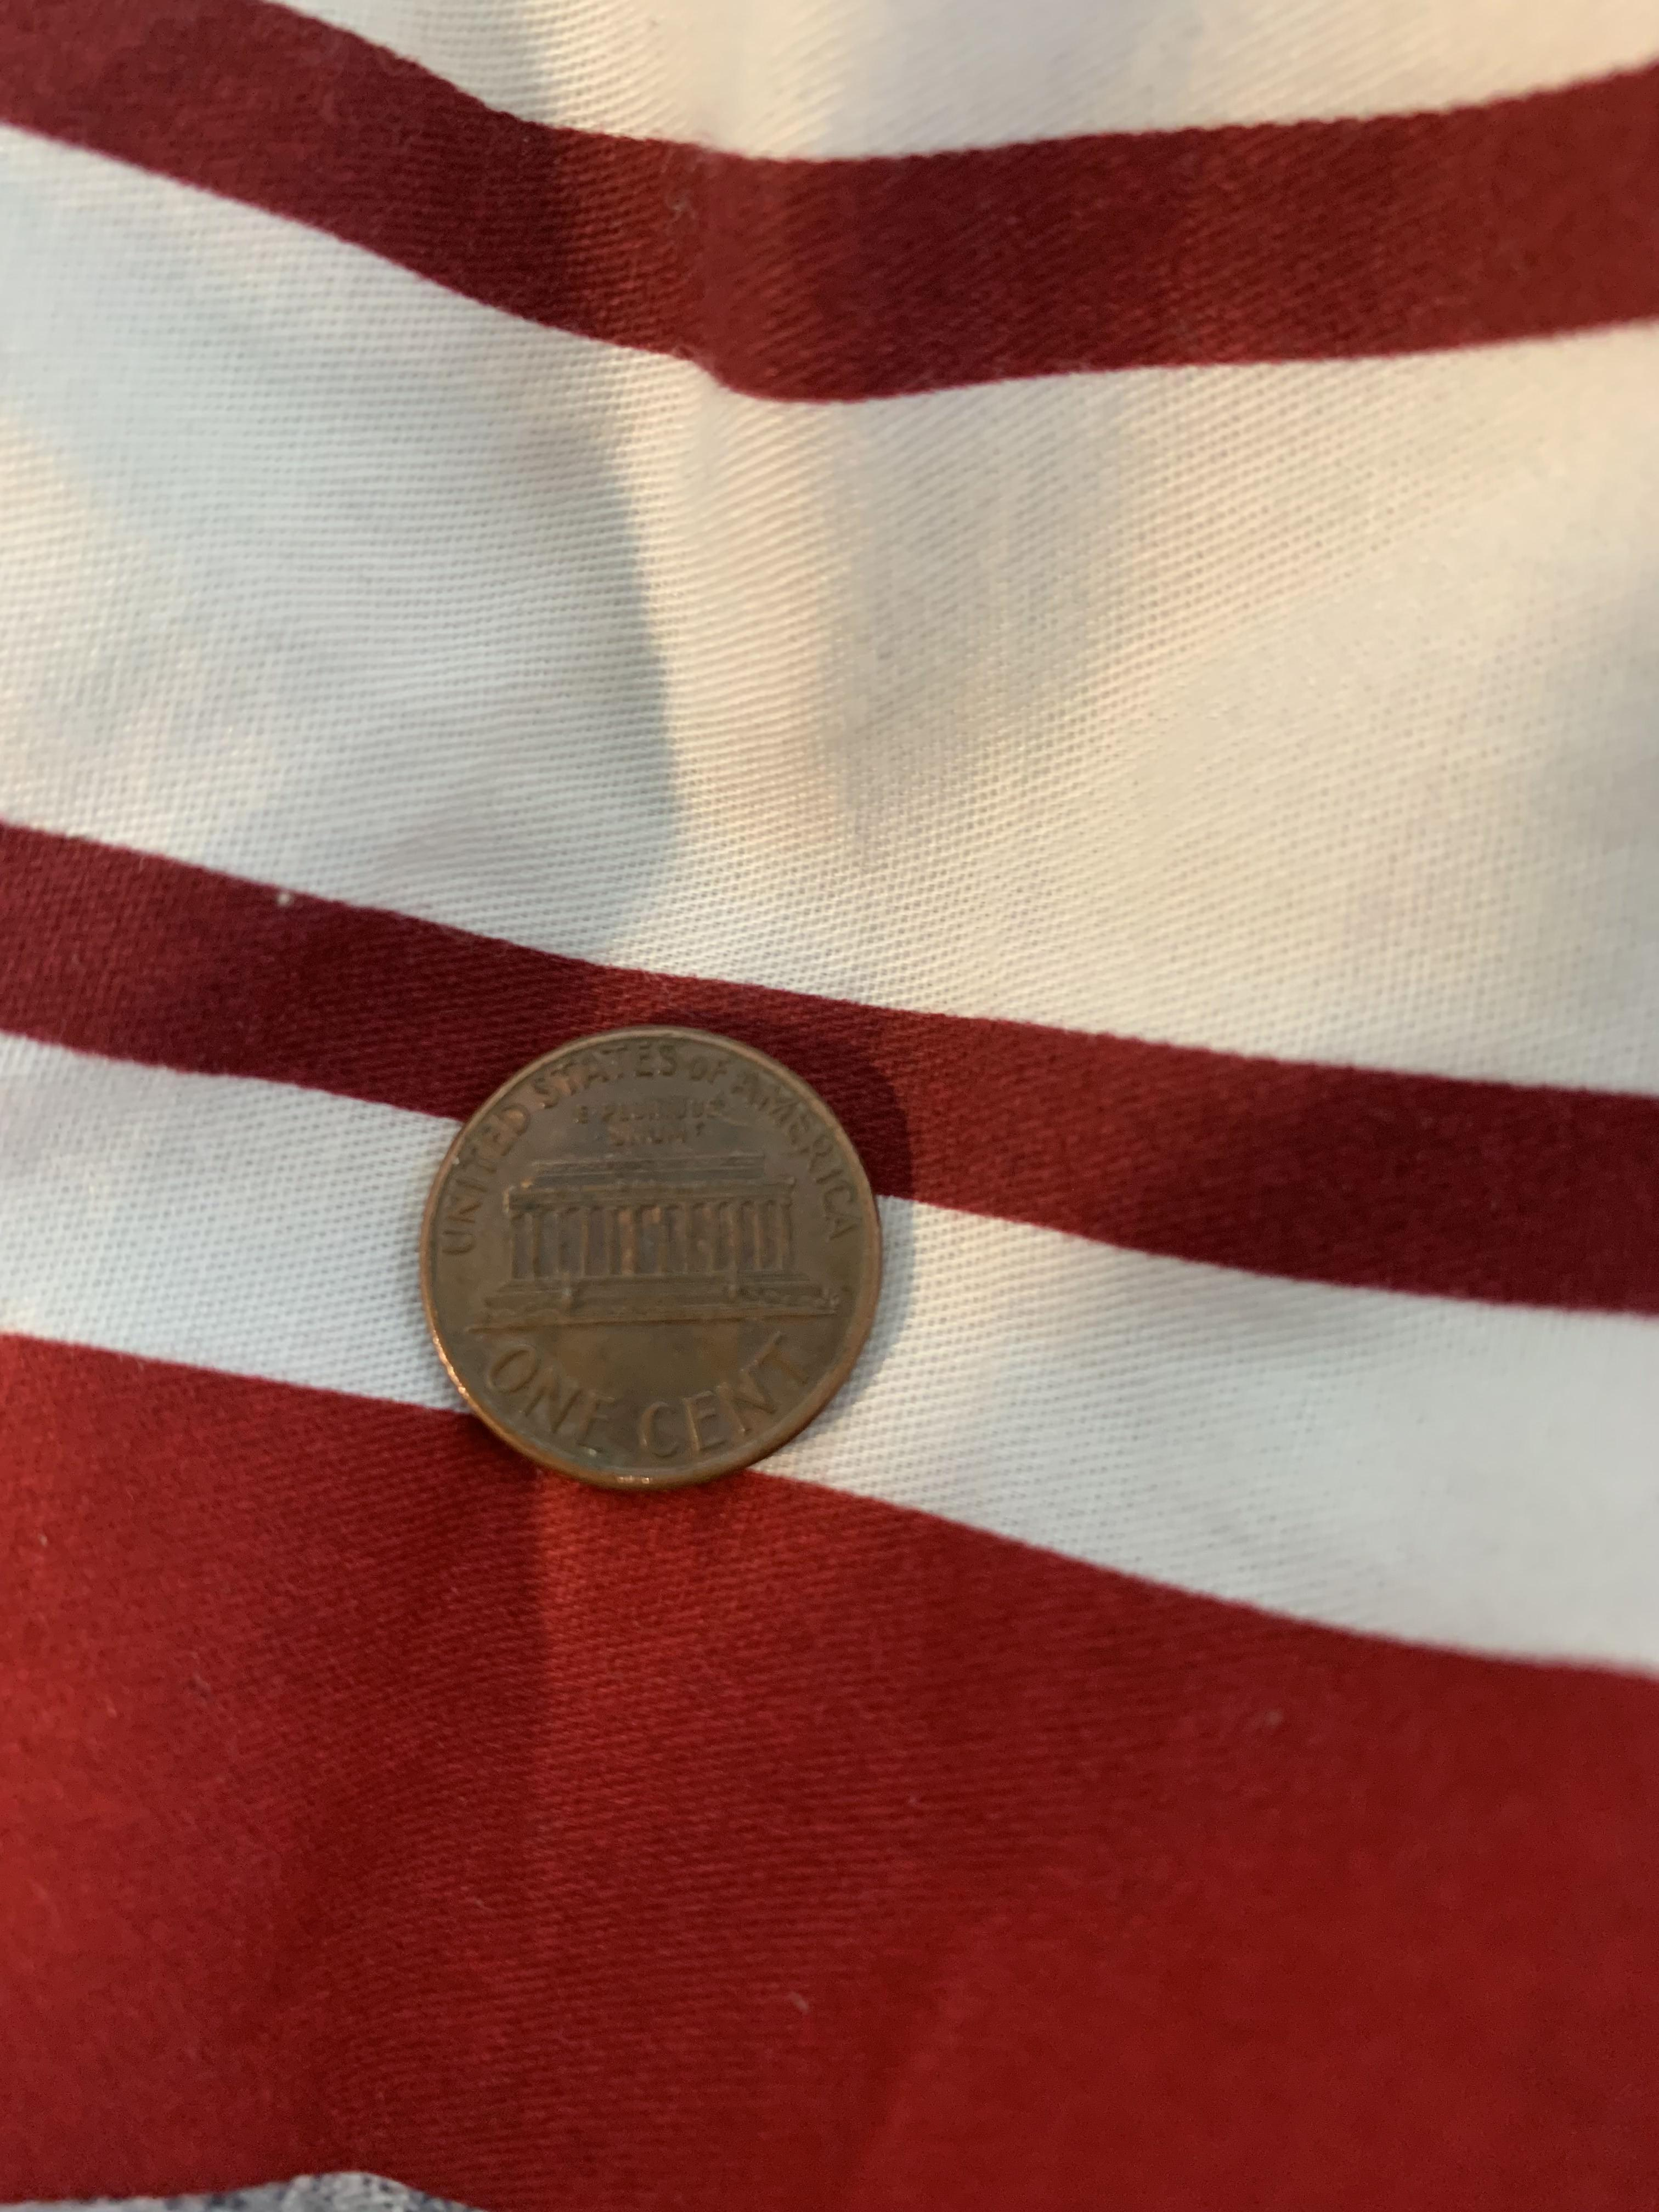Penny: (406, 998, 906, 1503)
